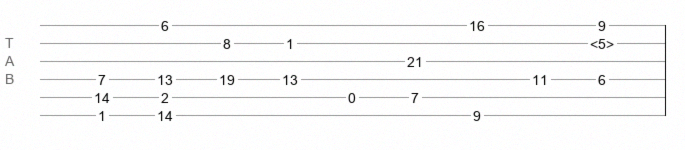0: (348, 90, 356, 100)
1: (98, 108, 106, 118), (286, 36, 294, 46)
11: (532, 72, 548, 82)
13: (157, 72, 173, 82), (282, 72, 298, 82)
14: (94, 90, 110, 100), (157, 108, 173, 118)
16: (469, 18, 485, 28)
19: (219, 72, 235, 82)
2: (161, 90, 169, 100)
21: (407, 54, 423, 64)
6: (161, 18, 169, 28), (598, 72, 606, 82)
7: (98, 72, 106, 82), (411, 90, 419, 100)
8: (223, 36, 231, 46)
9: (473, 108, 481, 118), (598, 18, 606, 28)
harmonic: (590, 36, 614, 46)
